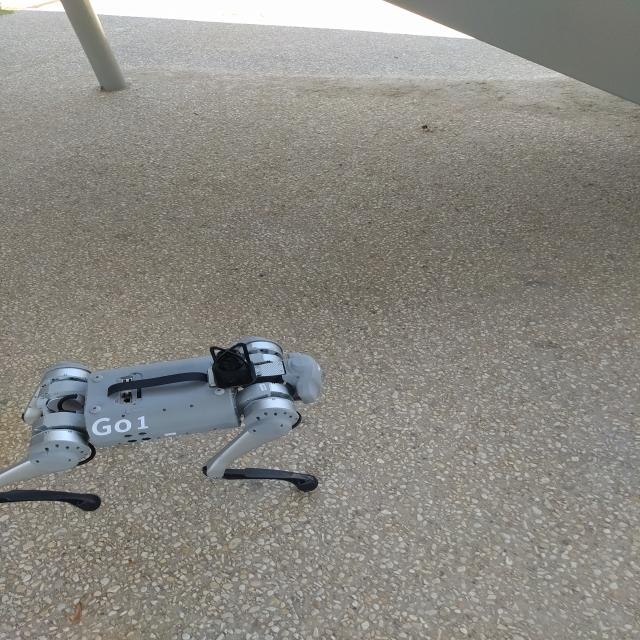unitree-go1-robot: (0, 334, 336, 524)
